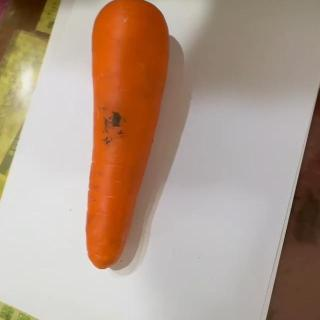carrot: (84, 0, 170, 273)
